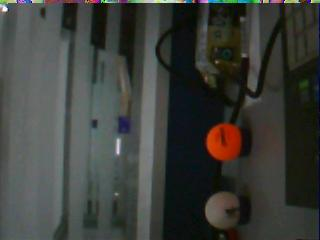oball: (206, 124, 240, 159)
